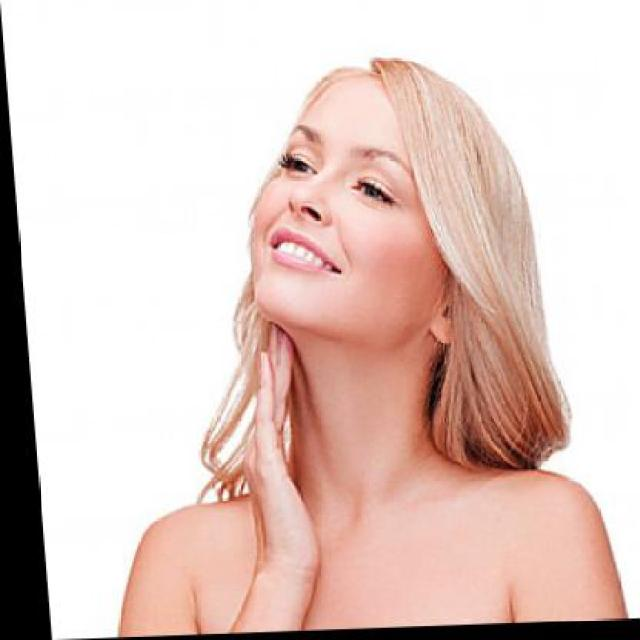Healthy: (289, 326, 464, 559)
